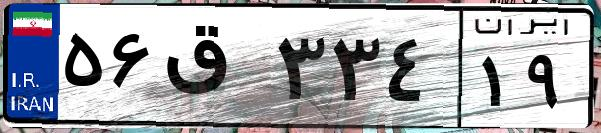1: (475, 38, 525, 113)
3: (270, 28, 330, 110), (330, 28, 385, 110)
4: (385, 28, 445, 110)
5: (57, 26, 110, 100)
6: (110, 28, 158, 98)
9: (525, 38, 570, 115)
ق: (158, 20, 270, 120)
